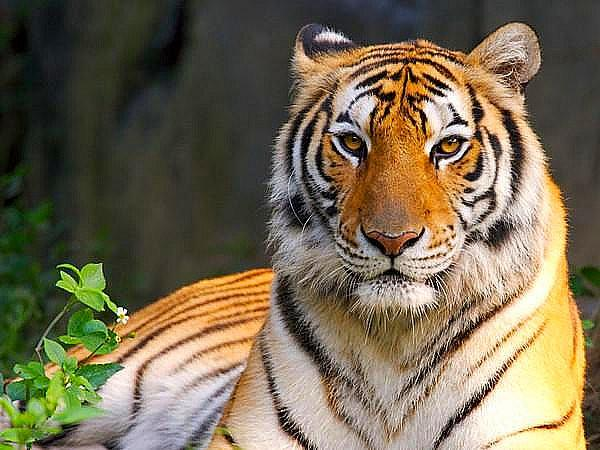tiger: (32, 20, 589, 449)
